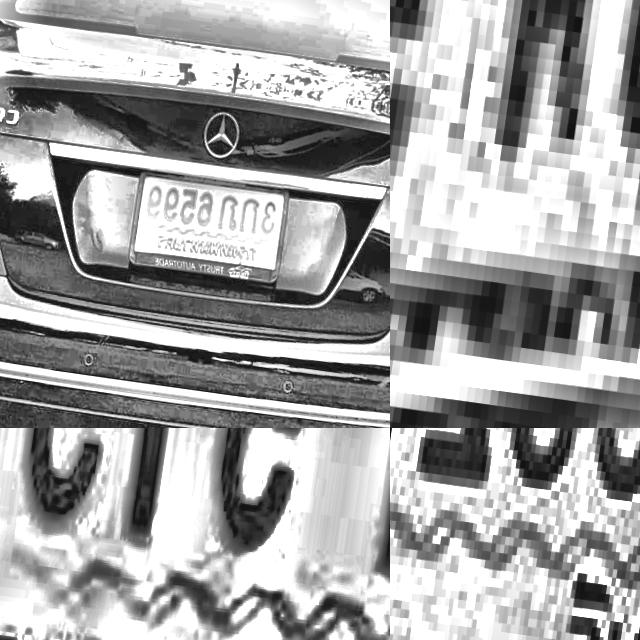license-plate: (390, 0, 640, 428), (0, 428, 390, 640), (390, 428, 640, 640), (125, 165, 292, 288)
